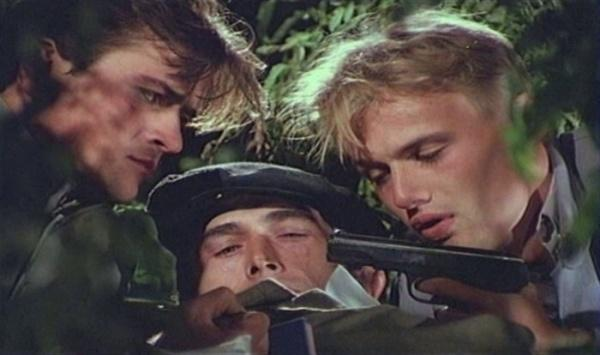Gun: (327, 229, 528, 296)
